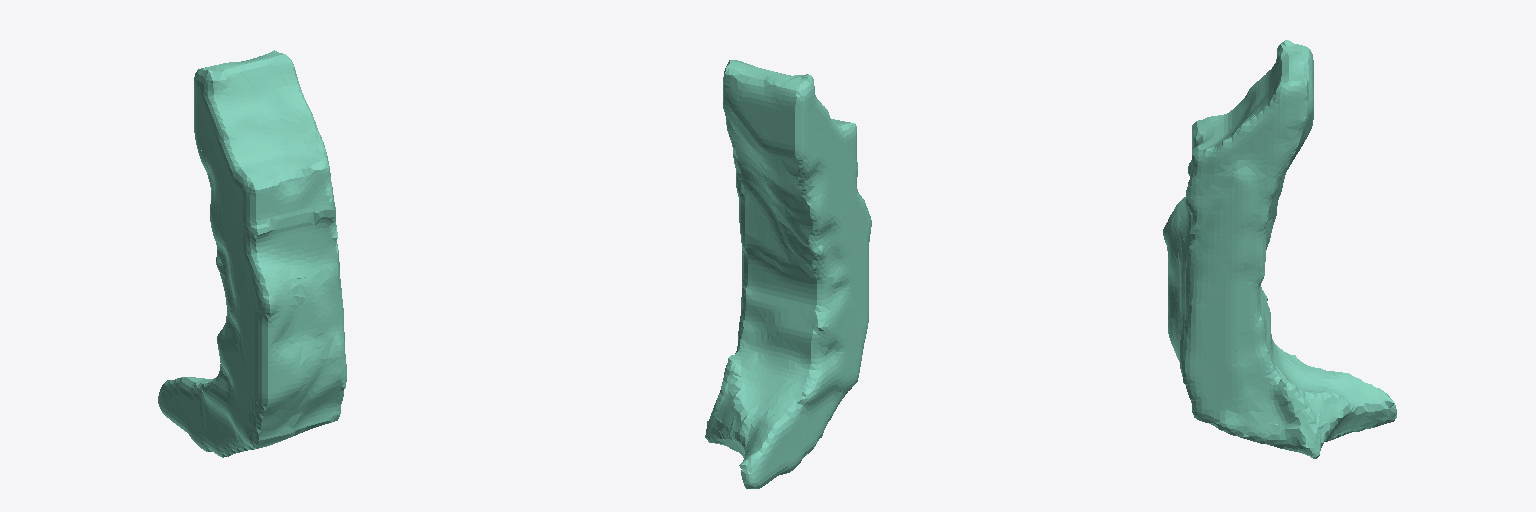
Rendered from Model_54_RH__Area_23b_of_cortex_(A23b).obj.
3 renders of one model, left to right at view 1: azimuth 30°, elevation 25°; view 2: azimuth 150°, elevation 25°; view 3: azimuth 270°, elevation 25°, orthographic.
Bounding box in the file's own units: 1.89 × 7.07 × 3.85.